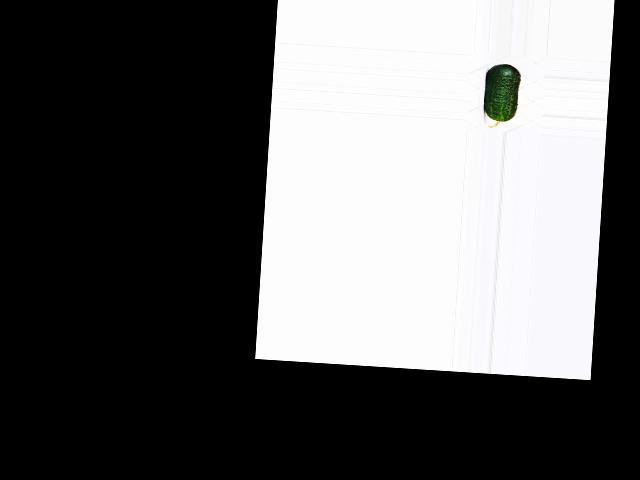cucumber: (482, 63, 520, 129)
